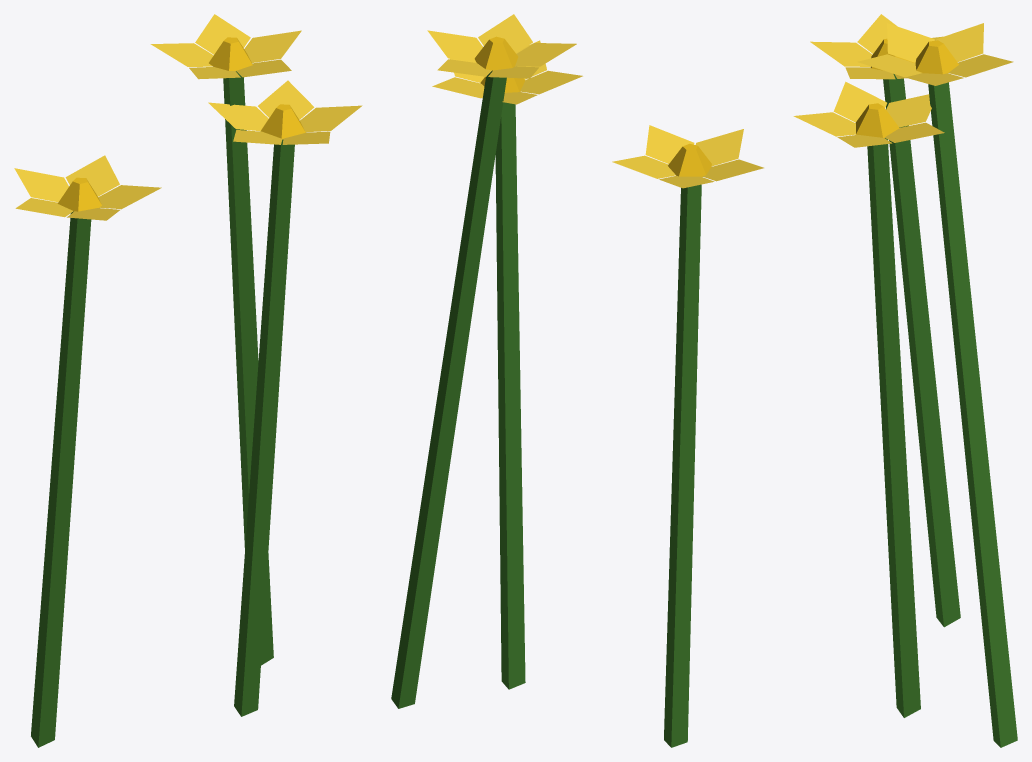
File: Flower_Yellow.fbx
3 views of the same model, side by side, from view 1: azimuth 30°, elevation 25°; view 2: azimuth 150°, elevation 25°; view 3: azimuth 270°, elevation 25° (orthographic). The views are drawn at different scales.
Parts seen in each view (by area): view 1: Flower_Yellow.001; view 2: Flower_Yellow.001; view 3: Flower_Yellow.001.
Part boxes in pixels (left/top/right/bottom): Flower_Yellow.001: left=14, top=14, right=362, bottom=747; Flower_Yellow.001: left=391, top=14, right=763, bottom=747; Flower_Yellow.001: left=793, top=14, right=1017, bottom=747.
Bounding box in the file's own units: 0.1894 × 0.3582 × 0.1089.
